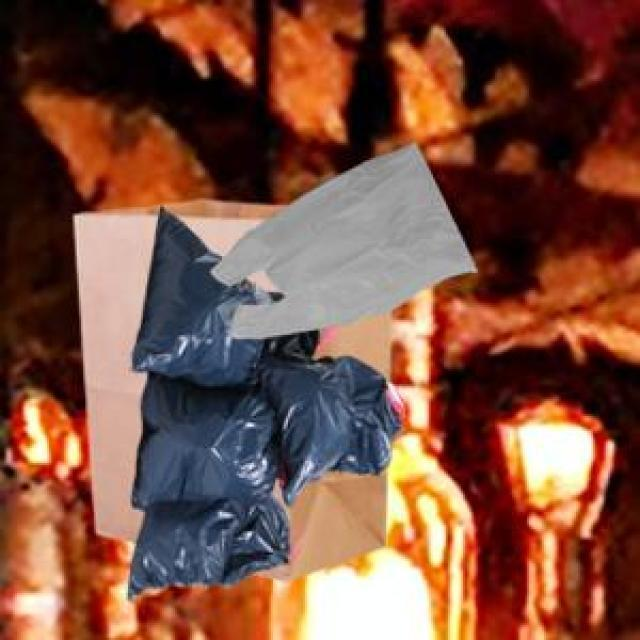miscellaneous trash: (124, 203, 399, 597)
paper: (70, 196, 386, 576)
